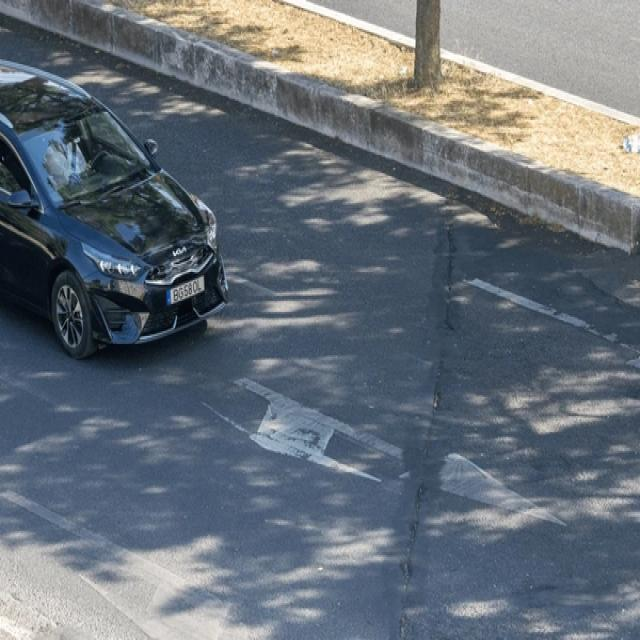kia: (170, 243, 187, 260)
